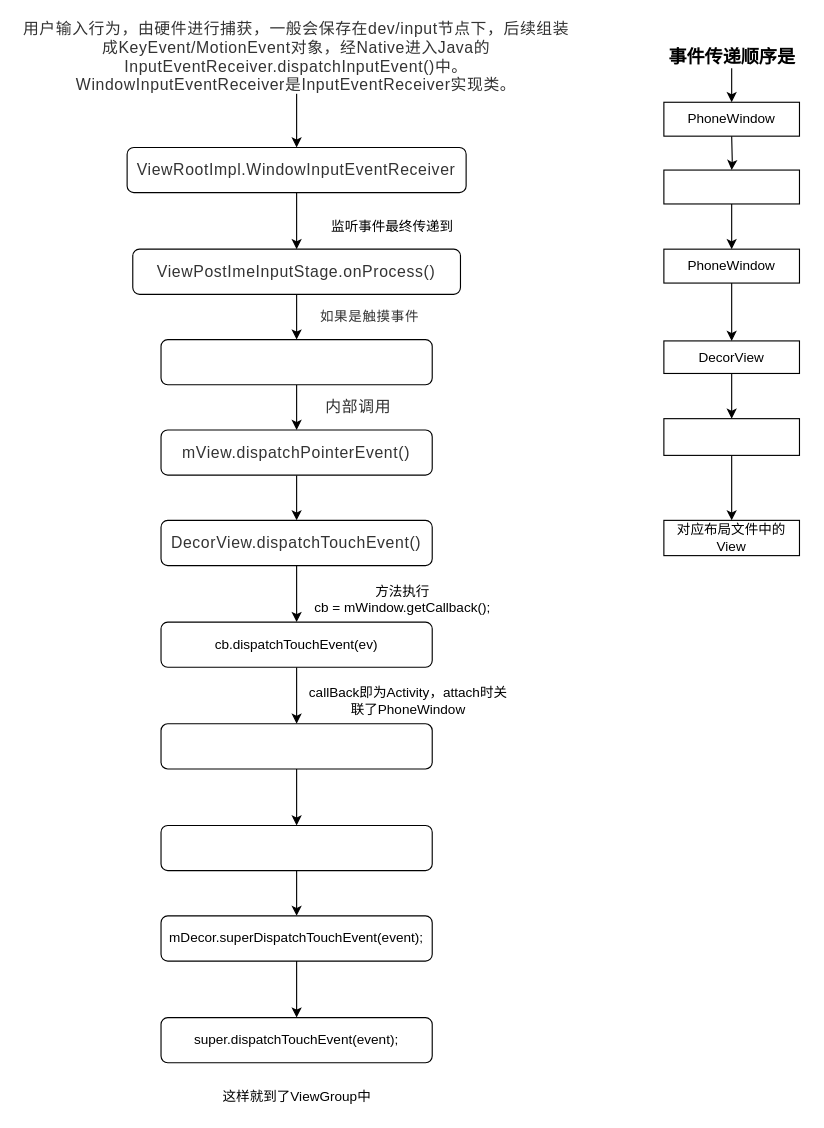
Some shapes in this 824 by 1128 pixel diagram are drawn without their labels. Each missing label, with the centre of its shape:
Activity: pixel 731 186
activity.diapatchTouchEvent(): pixel 296 746
getWindow().superDispatchTouchEvent(ev): pixel 296 847
processPointerEvent(): pixel 296 361
ViewGroup: pixel 731 436
